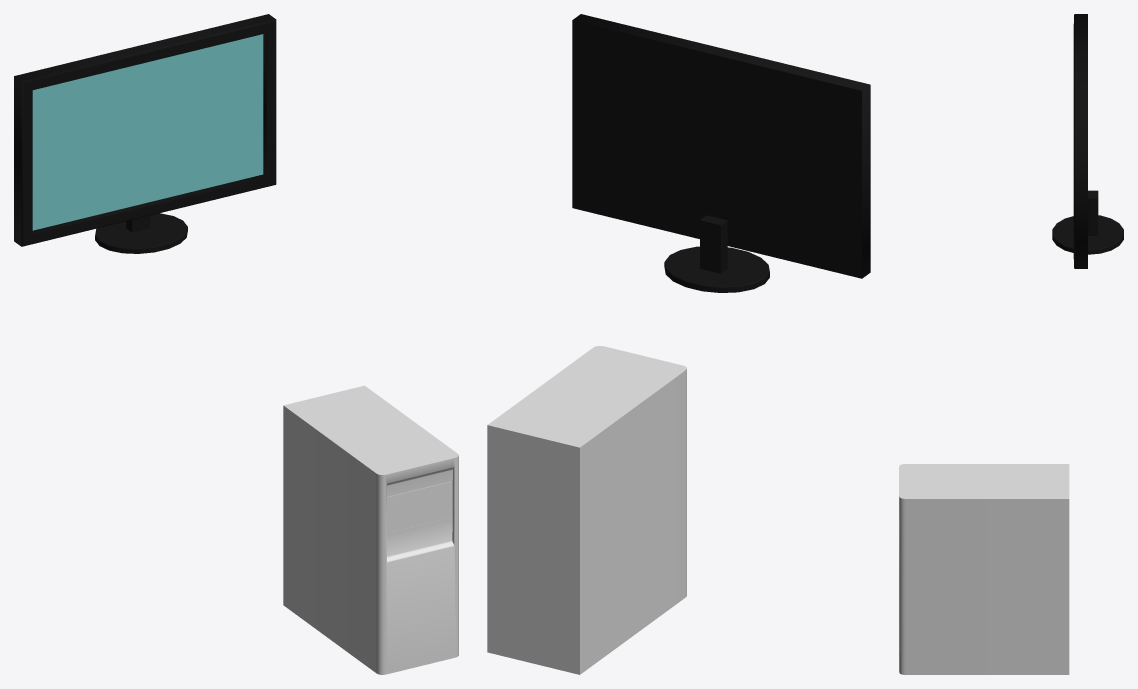
Rendered from computer.fbx.
3 views of the same model, side by side, from view 1: azimuth 30°, elevation 25°; view 2: azimuth 150°, elevation 25°; view 3: azimuth 270°, elevation 25° (orthographic). The views are drawn at different scales.
Visible parts, largest first — view 1: monitor, computer case; view 2: monitor, computer case; view 3: computer case, monitor.
Part boxes in pixels (x1,y1,x2,y2): monitor: (14, 14, 276, 253); computer case: (283, 385, 458, 674); monitor: (572, 14, 870, 292); computer case: (487, 346, 686, 674); computer case: (899, 464, 1069, 674); monitor: (1052, 14, 1123, 268).
Bounding box in the file's own units: 68.74 × 113 × 44.66.
